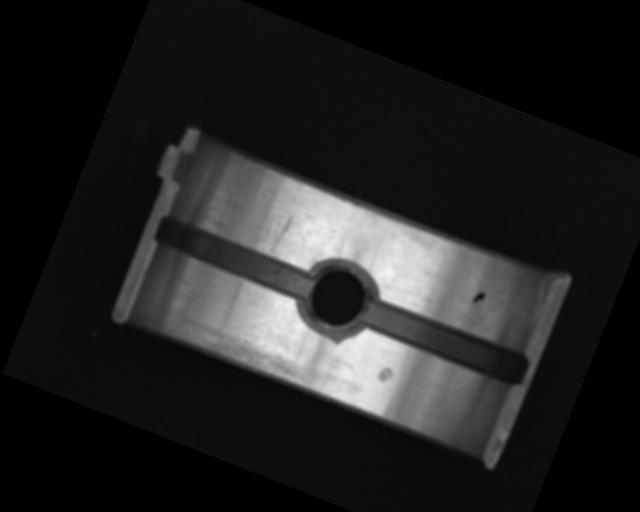blot: (471, 289, 486, 306)
bruise: (375, 363, 396, 385)
gap: (356, 293, 531, 390), (151, 213, 314, 302)
hole: (288, 248, 384, 347)
nick: (262, 209, 296, 260)
scratch: (164, 310, 320, 394)
